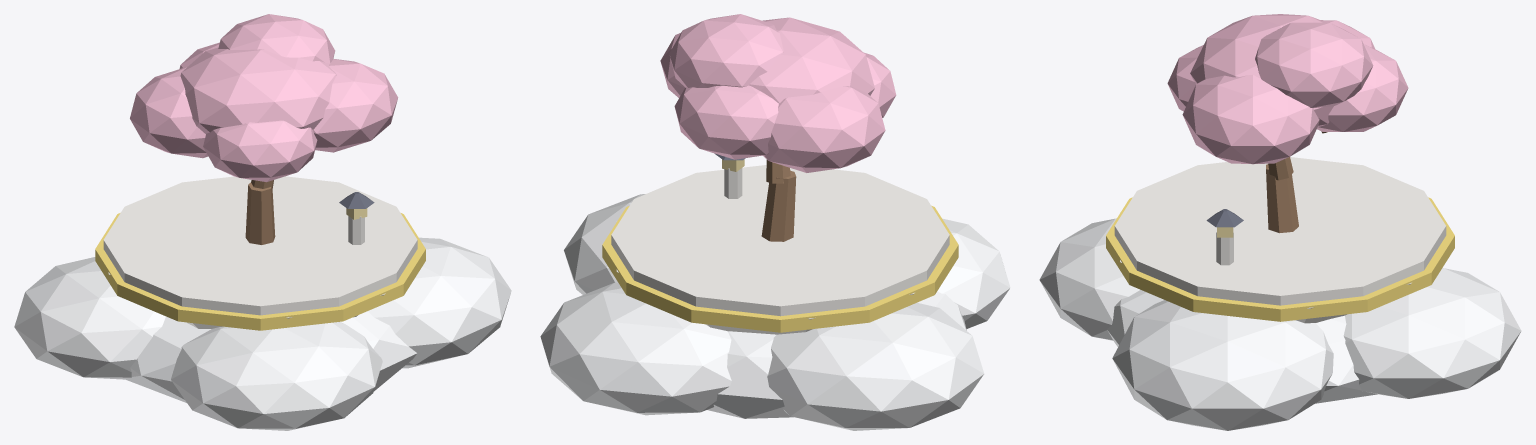
The model's file is SM_Kitsune_Floating_Island_Sakura.fbx.
3 views of the same model, side by side, from view 1: azimuth 30°, elevation 25°; view 2: azimuth 150°, elevation 25°; view 3: azimuth 270°, elevation 25° (orthographic). The views are drawn at different scales.
Parts seen in each view (by area): view 1: SM_Kitsune_Floating_Island_Sakura; view 2: SM_Kitsune_Floating_Island_Sakura; view 3: SM_Kitsune_Floating_Island_Sakura.
Part boxes in pixels (x1=…): SM_Kitsune_Floating_Island_Sakura: x1=14, y1=14, x2=511, y2=430; SM_Kitsune_Floating_Island_Sakura: x1=540, y1=14, x2=1010, y2=430; SM_Kitsune_Floating_Island_Sakura: x1=1039, y1=14, x2=1521, y2=430.
Size of the model in its own units: 1992 by 1560 by 1920.
